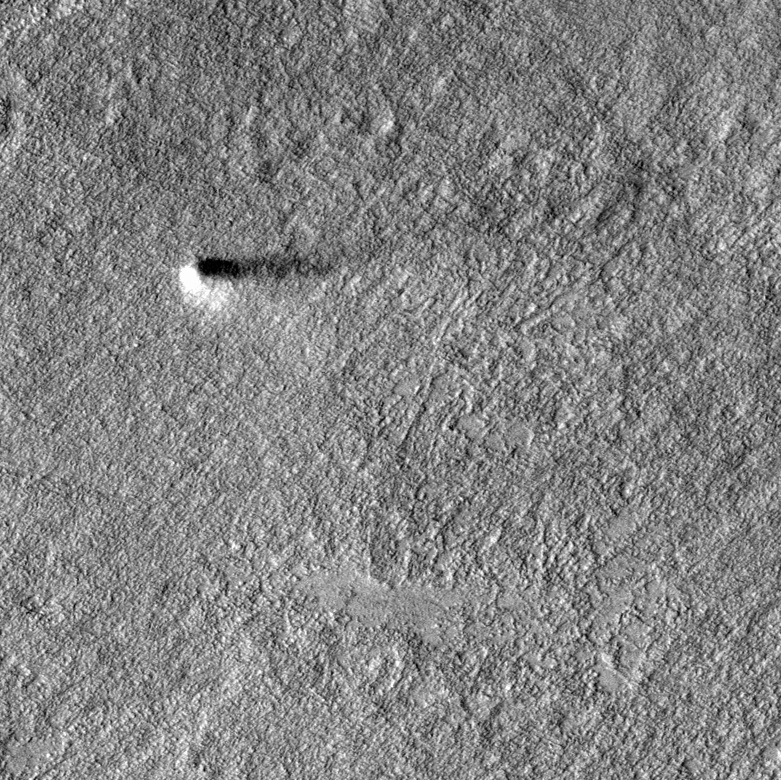dust_devil: (175, 253, 333, 312)
